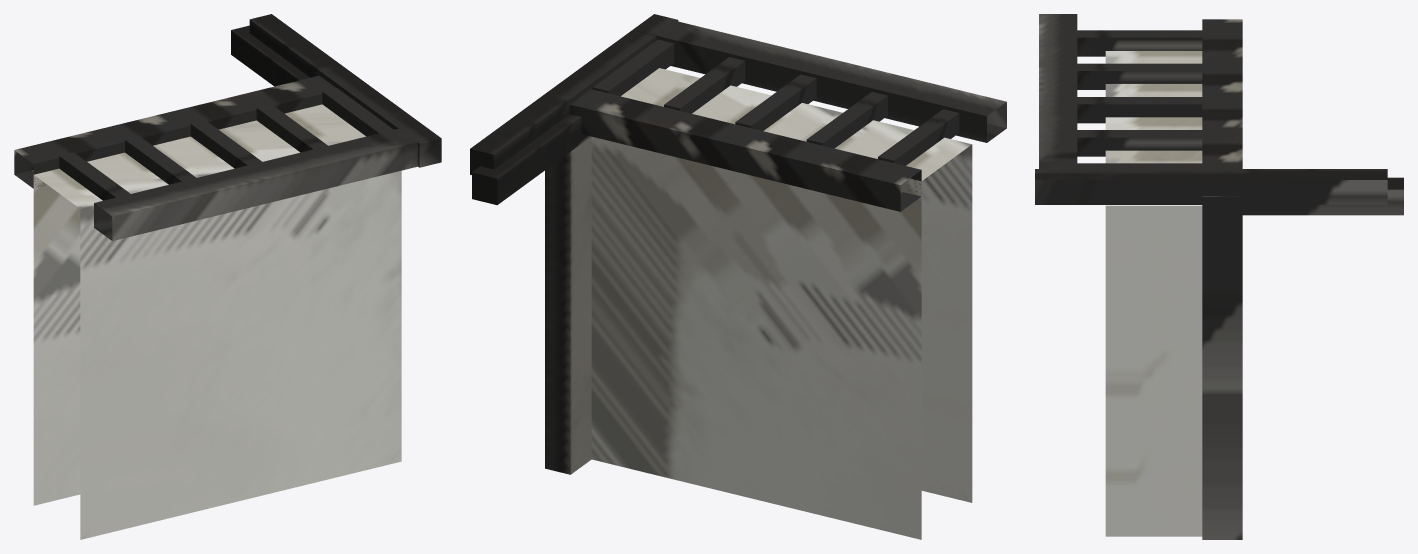
The model's file is pz_bed_bedding_01_large_fancy_1_1.obj.
The picture shows the model from 3 angles, left to right: view 1: azimuth 30°, elevation 25°; view 2: azimuth 150°, elevation 25°; view 3: azimuth 270°, elevation 25°; orthographic projection. The views are drawn at different scales.
Size of the model in its own units: 0.975 by 0.985 by 0.915.
1 material, 1 textured.
